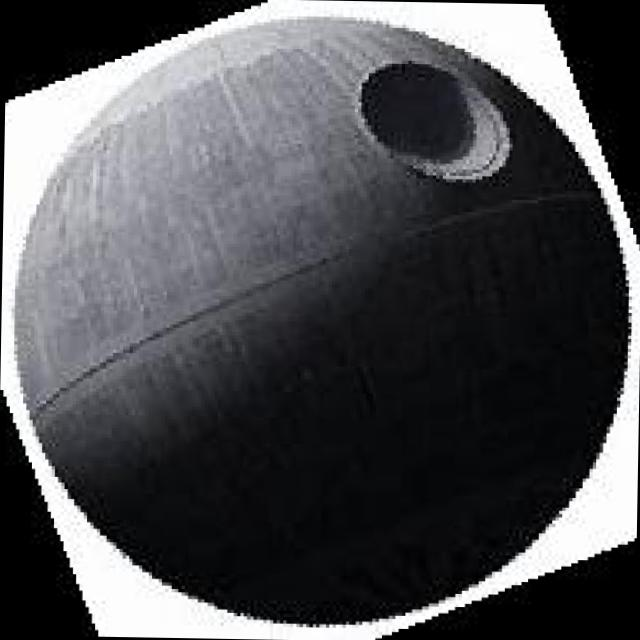Death Star: (8, 18, 636, 632)
